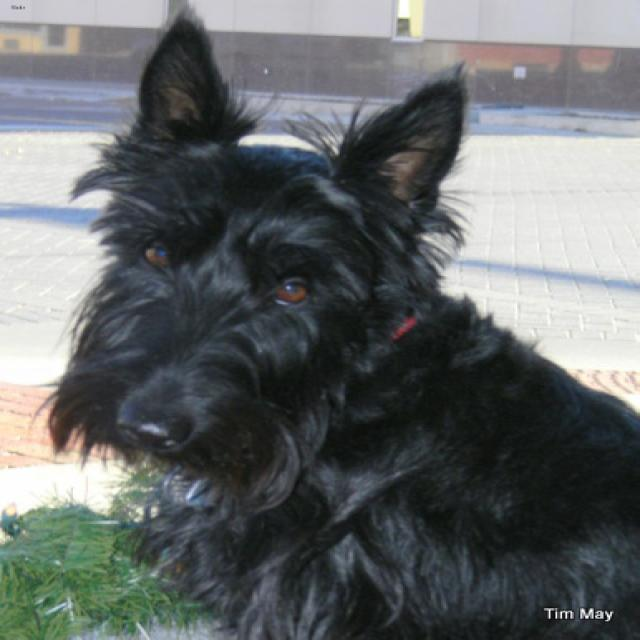dog-scottish_terrier: (40, 1, 637, 637)
